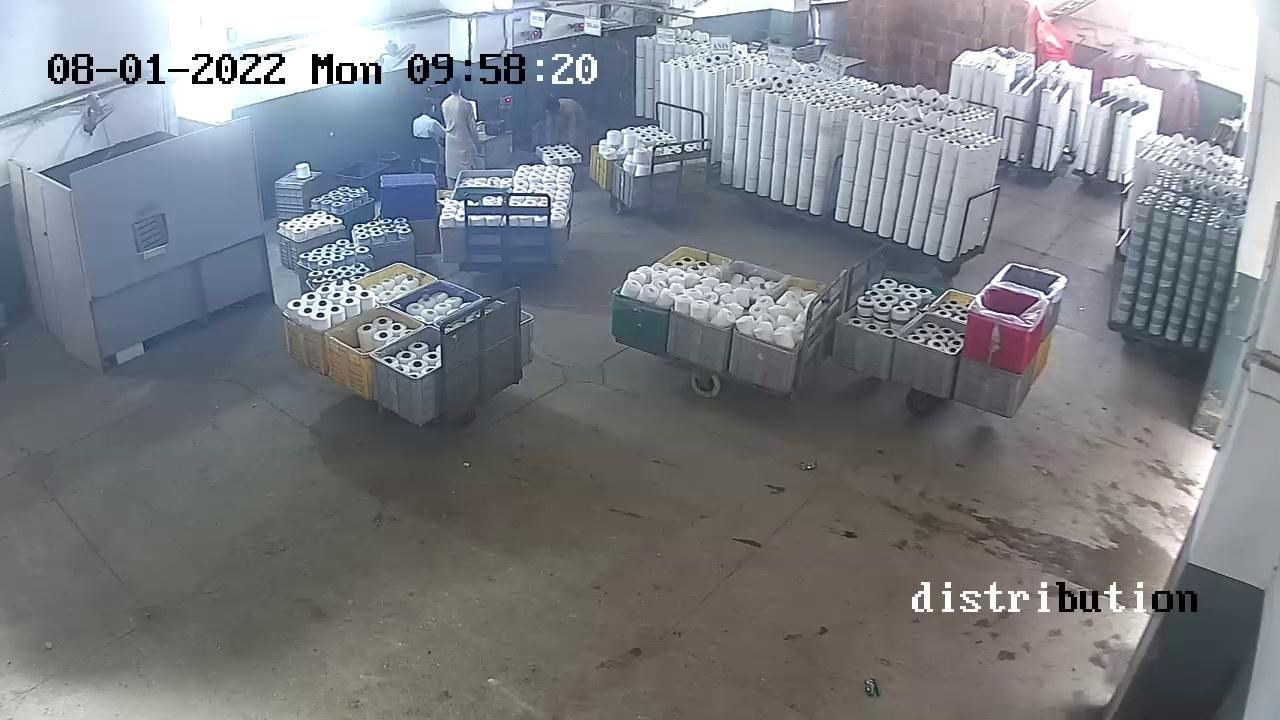person: (441, 77, 482, 188), (547, 88, 585, 162), (407, 100, 442, 137)
